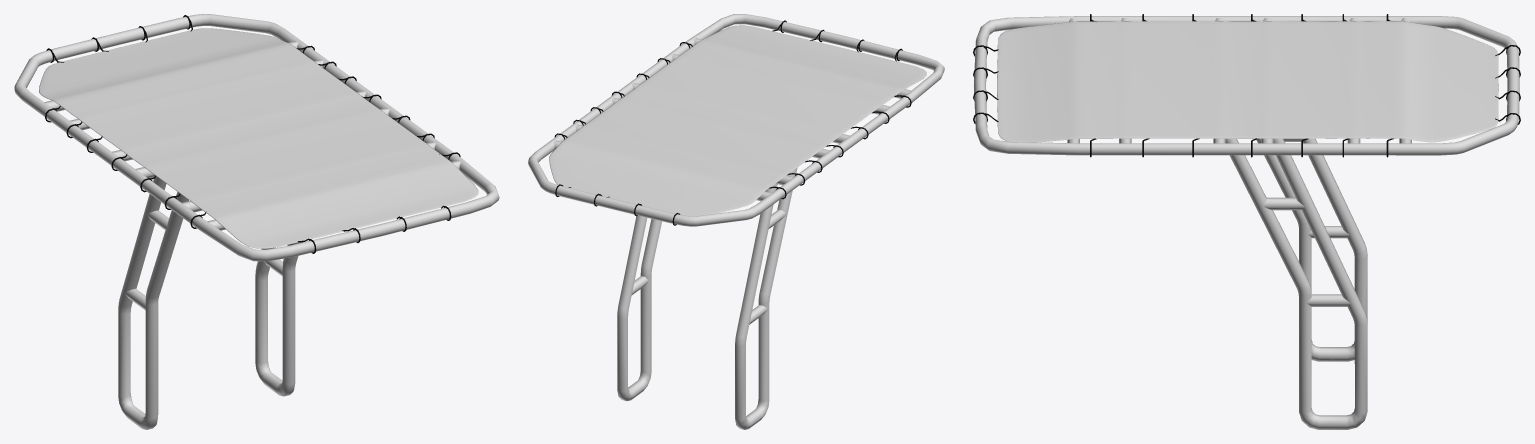
The model's file is fixedBimini.glb.
3 views of the same model, side by side, from view 1: azimuth 30°, elevation 25°; view 2: azimuth 150°, elevation 25°; view 3: azimuth 270°, elevation 25° (orthographic). The views are drawn at different scales.
Visible parts, largest first — view 1: 330 fixed bimini; view 2: 330 fixed bimini; view 3: 330 fixed bimini.
Boxes of the visible parts, <box> form: 330 fixed bimini: <box>14,14,499,429</box>; 330 fixed bimini: <box>528,14,944,429</box>; 330 fixed bimini: <box>973,14,1520,429</box>.
Size of the model in its own units: 2.26 by 2.47 by 3.89.
Materials: 1 (1 with a texture image).
